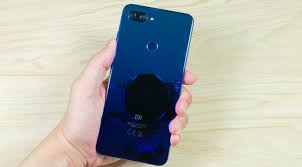mi: (86, 1, 197, 166)
